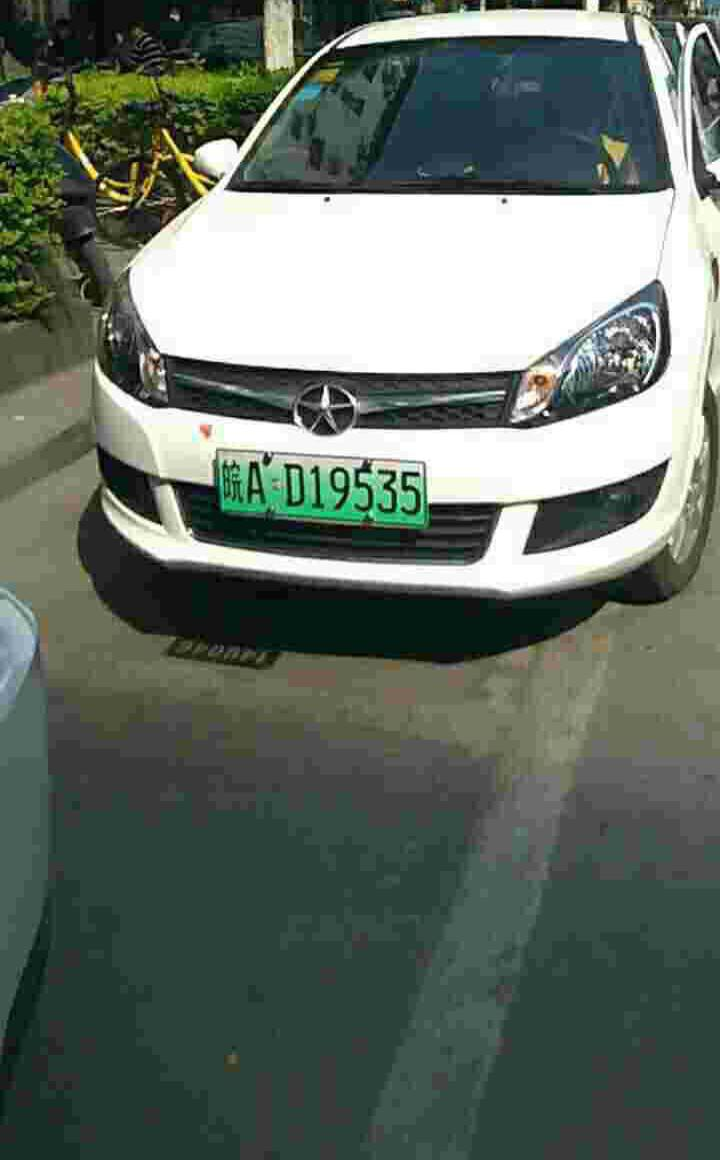car: (213, 444, 432, 534)
